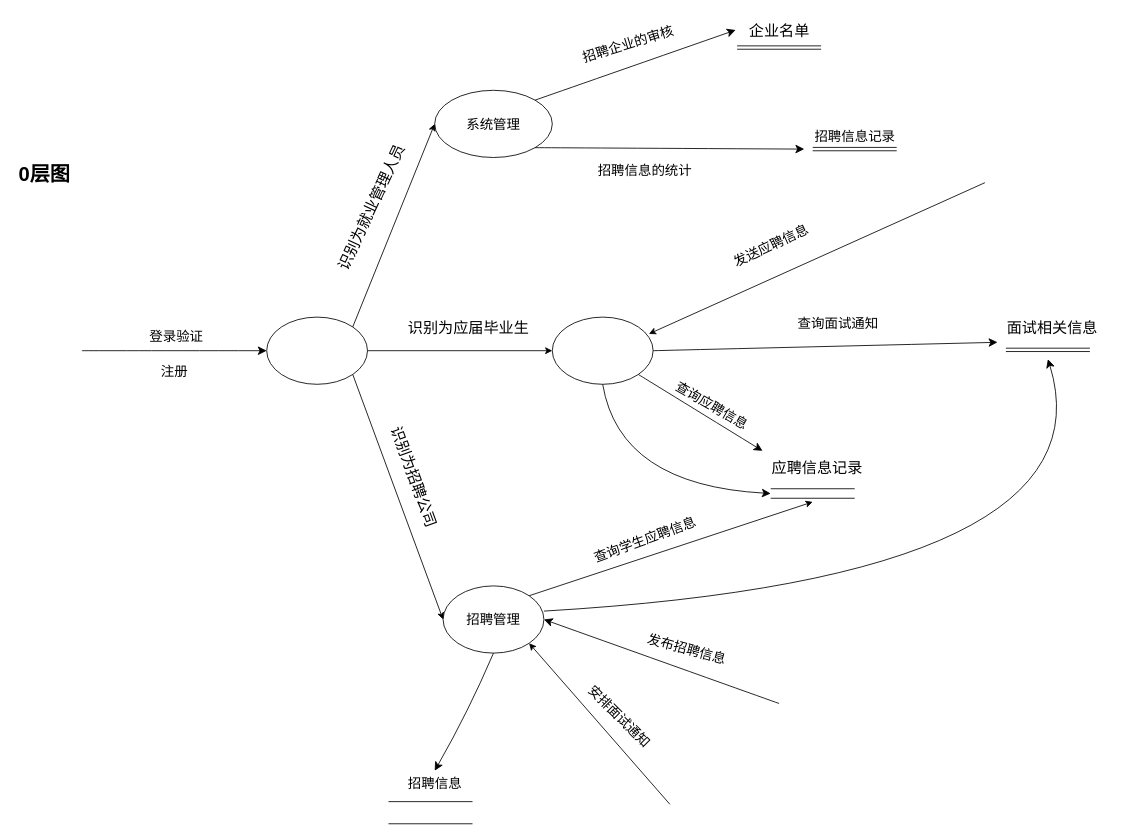
The diagram is 1121 pixels wide and 838 high, and some of its shapes have lost their labels. Each missing label, with the centre of its shape:
"应聘管理" goes at point 602,350.
"验证注册" goes at point 317,350.
